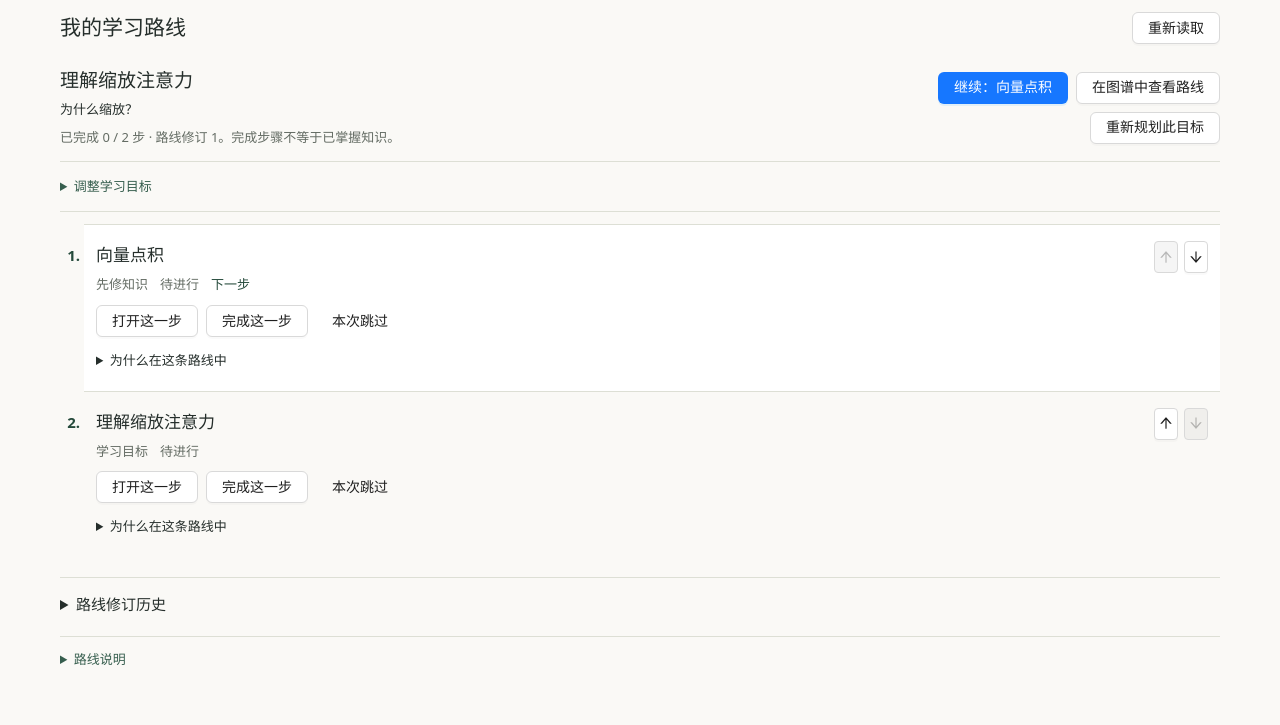
Scenario: saved routes show steps first and keep a changed target when planning is collapsed
Later steps or results of the test are not shown.
Expected: the heading "向量点积" is shown, [96,243,164,266]
Expected: the button "继续：向量点积" is shown, [938,72,1068,104]
Step 1. Click the heading "调整学习目标" → (113, 186), box [74,177,152,195]
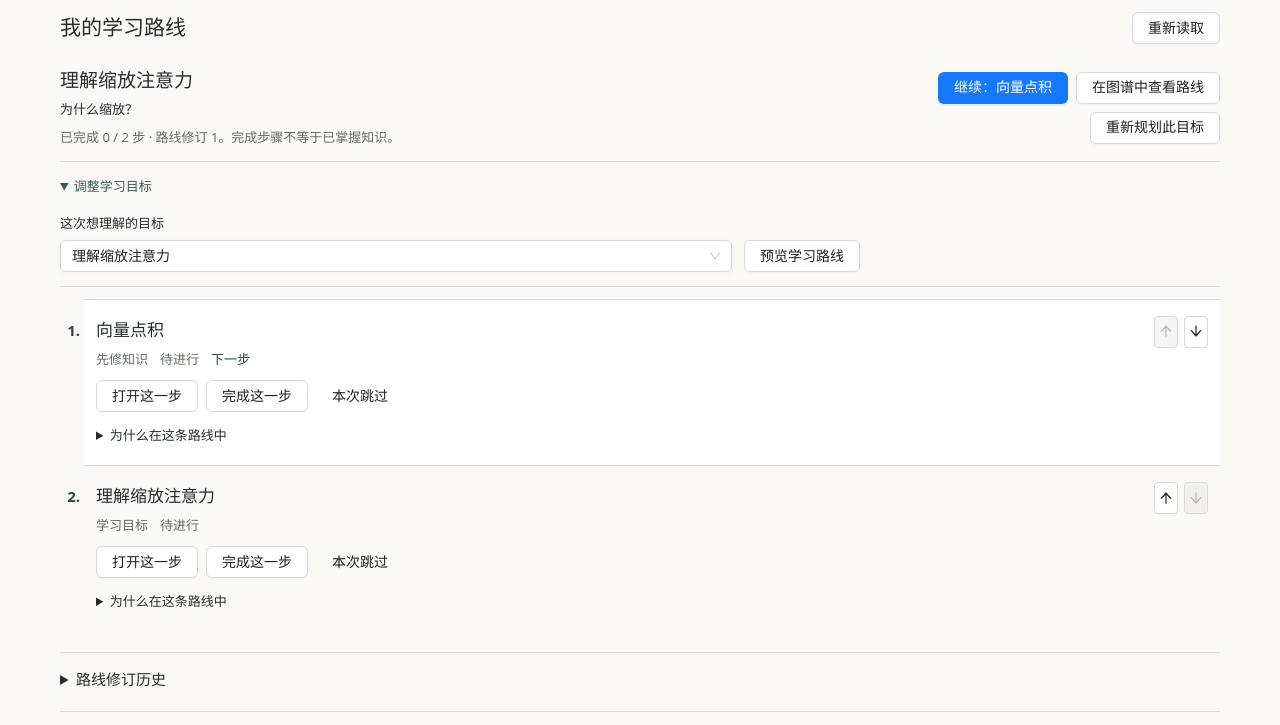
Expected: the dropdown named "路线学习目标" is shown
Expected: the dropdown named "路线学习目标" is enabled
Step 2. Press the mouse on the dropdown named "路线学习目标" → (387, 256), box [72,241,702,271]
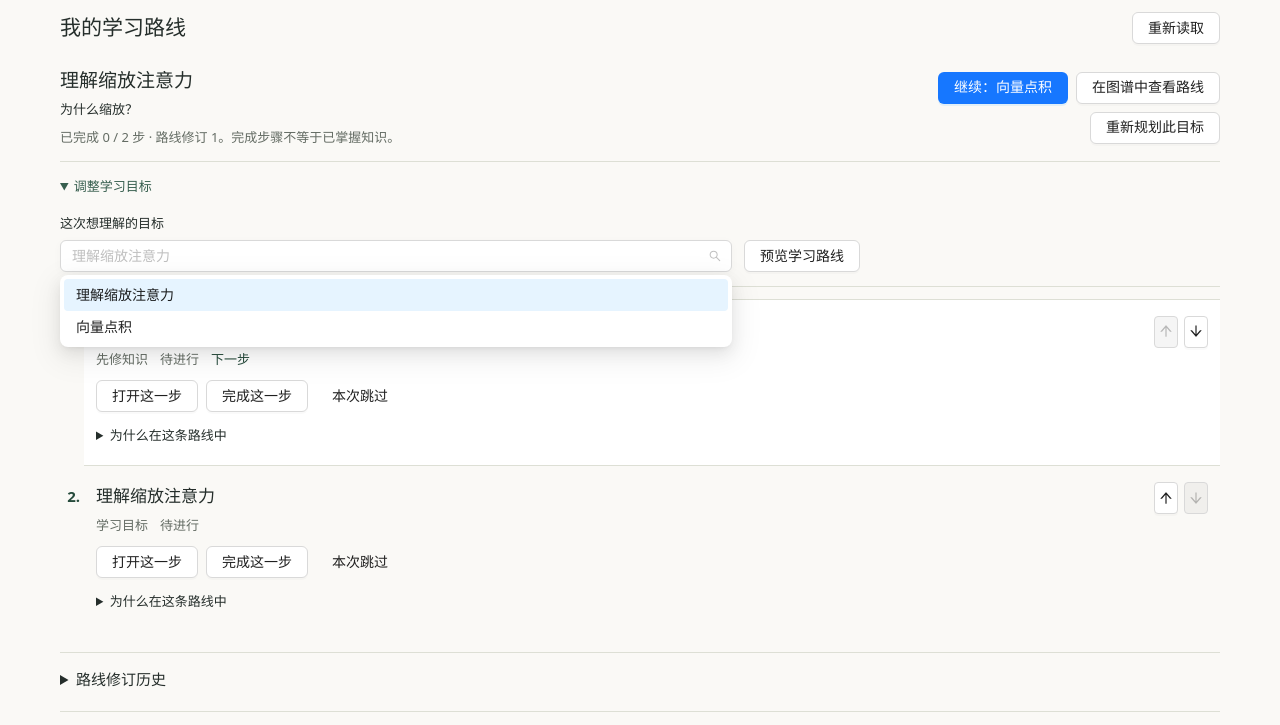
Step 3. Click the text "向量点积" → (104, 326), box [76,318,132,335]
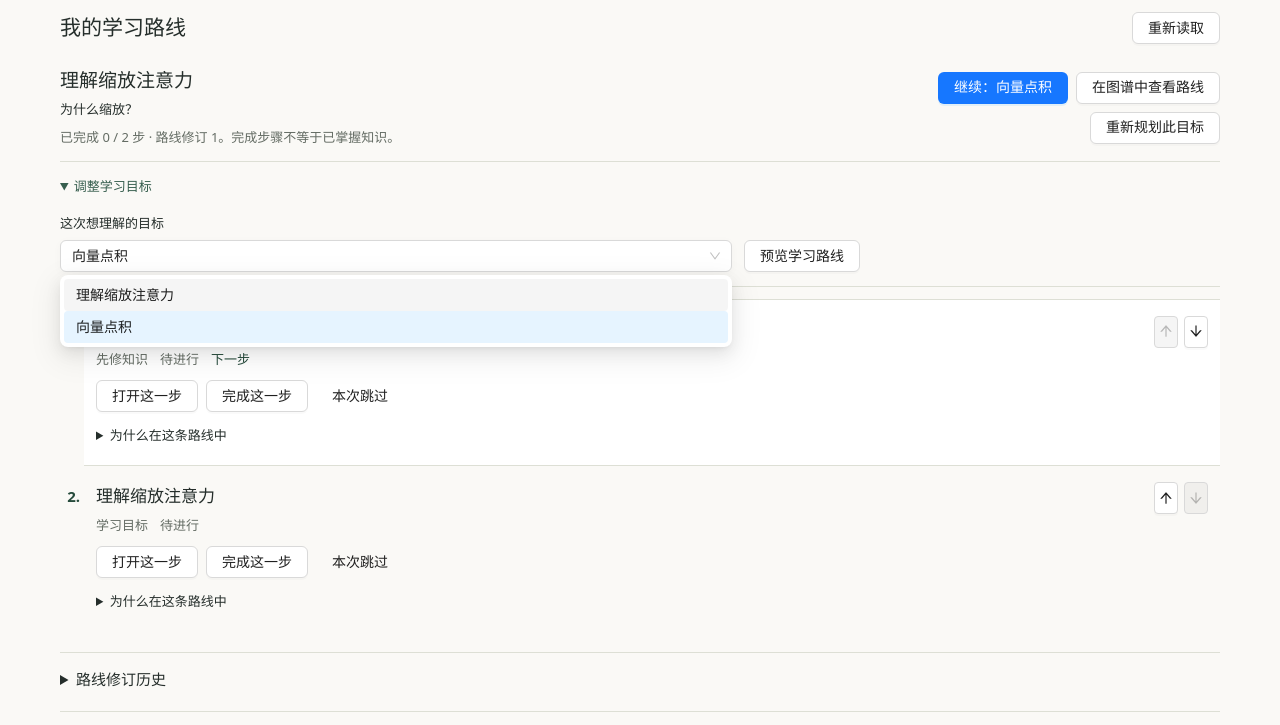
Step 4. Click the heading "调整学习目标" → (113, 186), box [74,177,152,195]
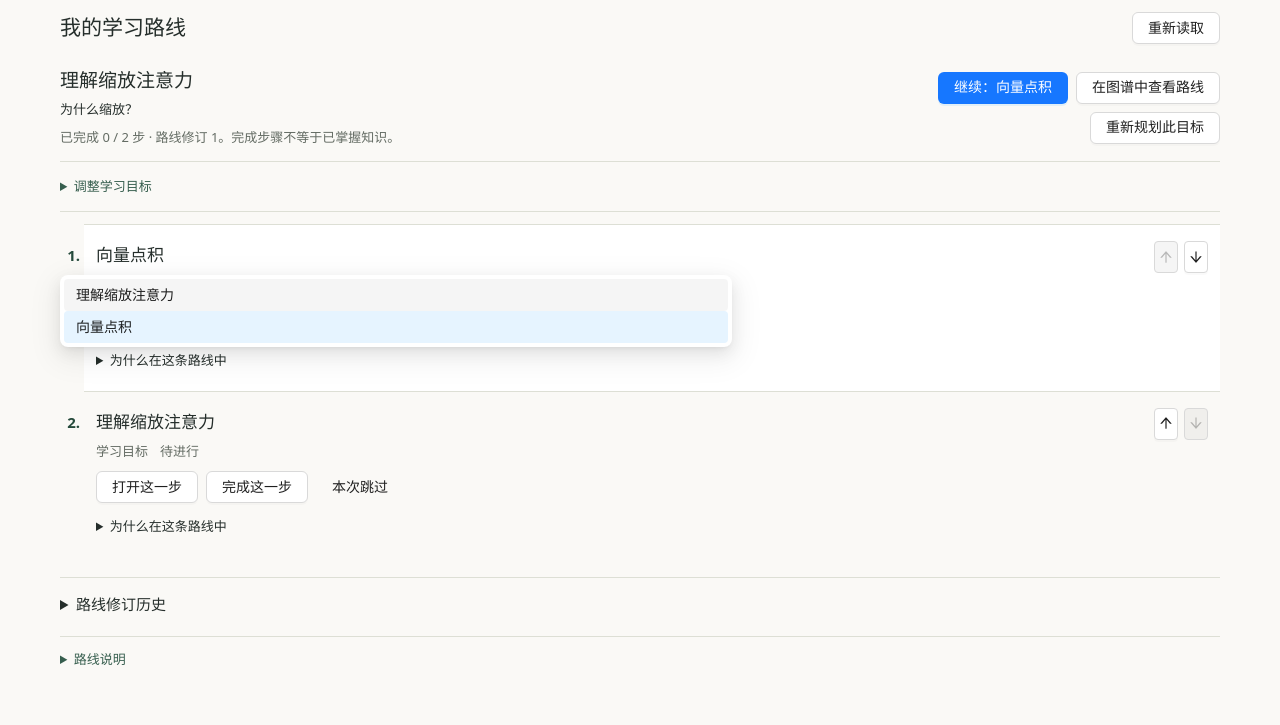
Expected: the dropdown labelled "路线学习目标" is gone
Step 5. Click the heading "调整学习目标" → (113, 186), box [74,177,152,195]
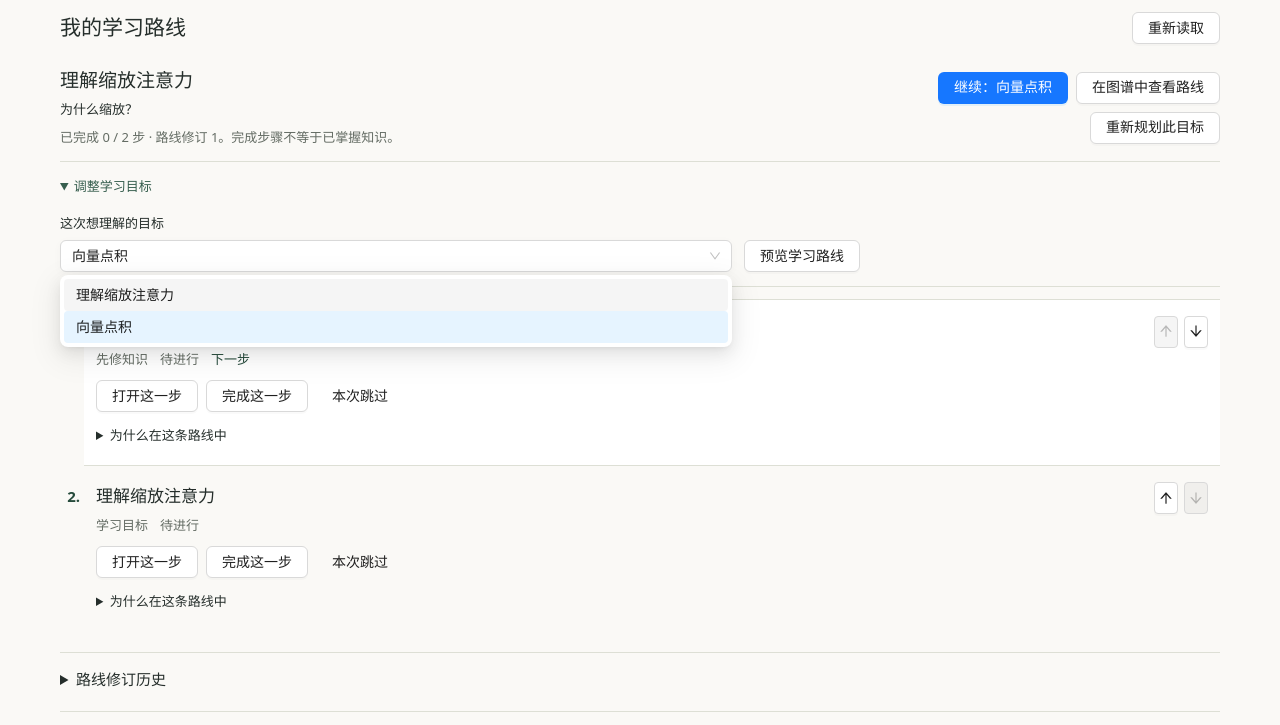
Expected: the dropdown named "路线学习目标" is shown, [72,241,702,271]
